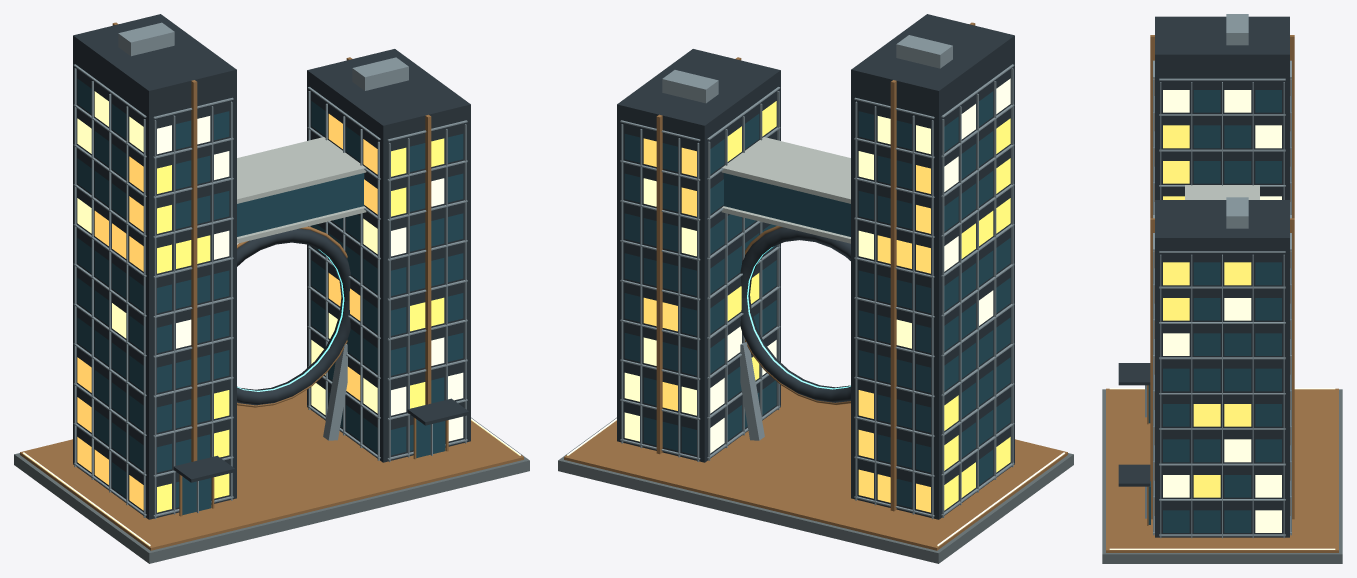
Rendered from integration-gate.lod1.glb.
3 renders of one model, left to right at view 1: azimuth 30°, elevation 25°; view 2: azimuth 150°, elevation 25°; view 3: azimuth 270°, elevation 25°, orthographic. The views are drawn at different scales.
Parts seen in each view (by area): view 1: structure; view 2: structure; view 3: structure.
Part boxes in pixels (x1,y1,x2,y2): structure: (14,14,529,563); structure: (558,14,1073,563); structure: (1102,14,1342,563).
Bounding box in the file's own units: 26 × 29.9 × 16.
